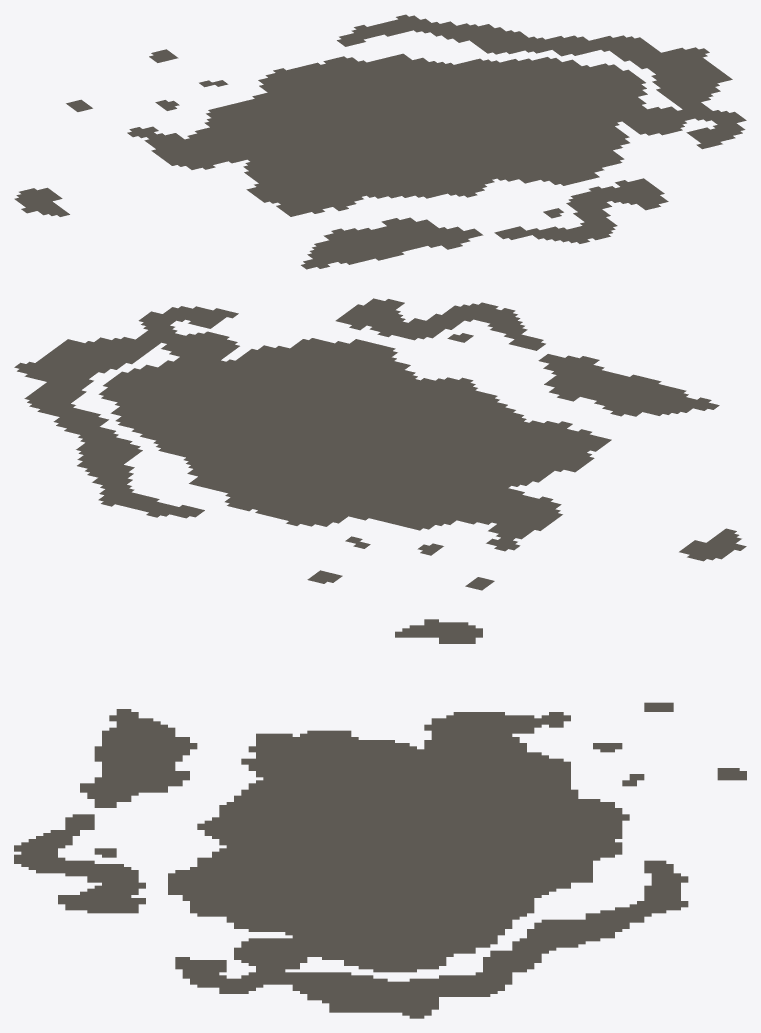
Rendered from Isl-hilly1-NoBuildArea.fbx.
3 views of the same model, one above another, from view 1: azimuth 30°, elevation 25°; view 2: azimuth 150°, elevation 25°; view 3: azimuth 270°, elevation 25° (orthographic). The views are drawn at different scales.
Parts seen in each view (by area): view 1: Isl-hilly1-NoBuildArea; view 2: Isl-hilly1-NoBuildArea; view 3: Isl-hilly1-NoBuildArea.
Part boxes in pixels (bbox=[...]): Isl-hilly1-NoBuildArea: bbox=[14, 14, 746, 269]; Isl-hilly1-NoBuildArea: bbox=[14, 298, 746, 590]; Isl-hilly1-NoBuildArea: bbox=[14, 619, 746, 1018].
Bounding box in the file's own units: 129 × 0 × 100.
